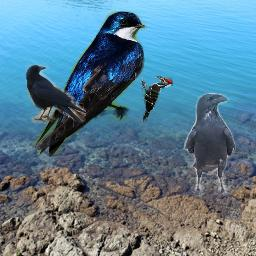Crow: (184, 93, 237, 196), (25, 62, 86, 124)
Swallow: (33, 11, 147, 157)
Woodpecker: (141, 76, 173, 122)
